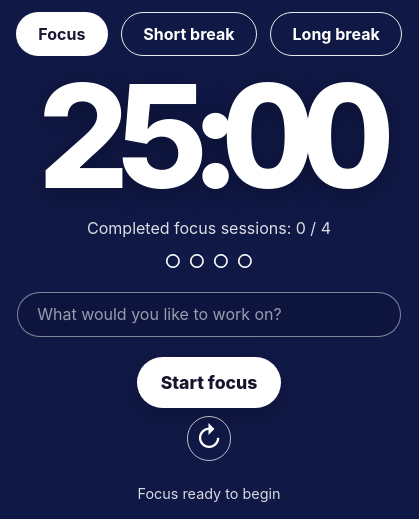
TimerScreen › completes and persists a running timer when its interval reaches the scheduled end
Click the button "Start focus".
click(209, 382)  # box [137, 357, 281, 408]
Wait 1000 ms
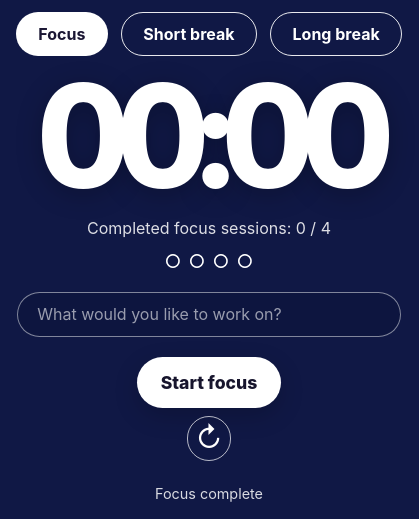
Now the message reads "Focus complete", box [155, 485, 263, 502]
